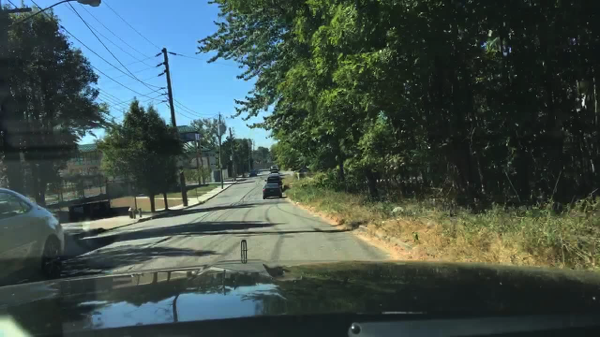car: (0, 187, 65, 285), (263, 183, 283, 200), (266, 180, 285, 191), (264, 175, 282, 183), (270, 165, 279, 171), (249, 171, 258, 177), (269, 171, 280, 175), (255, 168, 260, 174)
